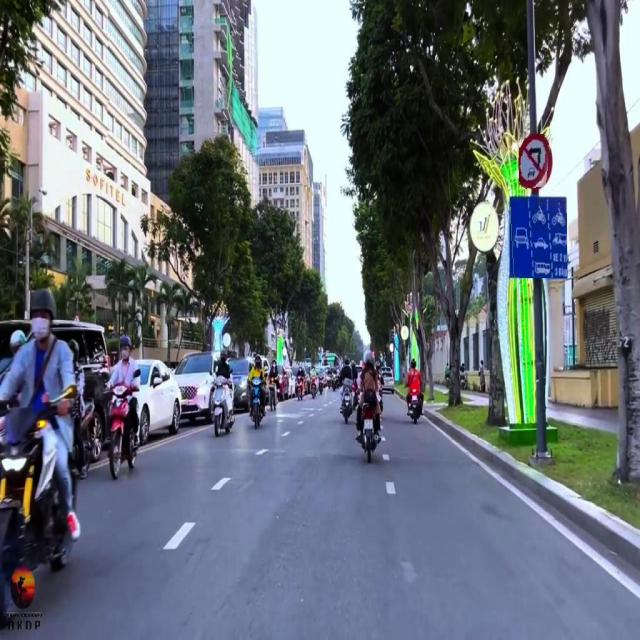cam_o_to_re_trai: (519, 134, 552, 190)
lan_duong_cho_tung_xe_theo_vach_ke_duong: (509, 198, 567, 278)
